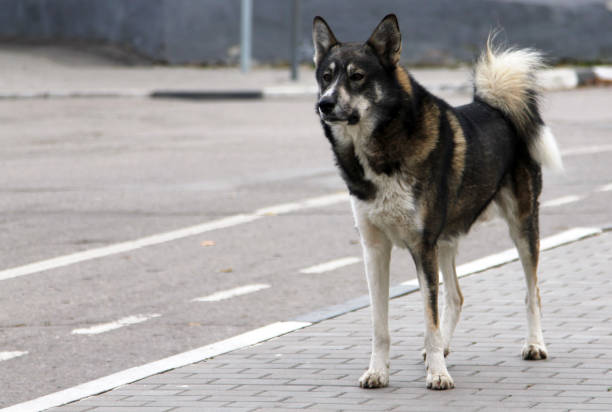kopek: (303, 7, 578, 394)
